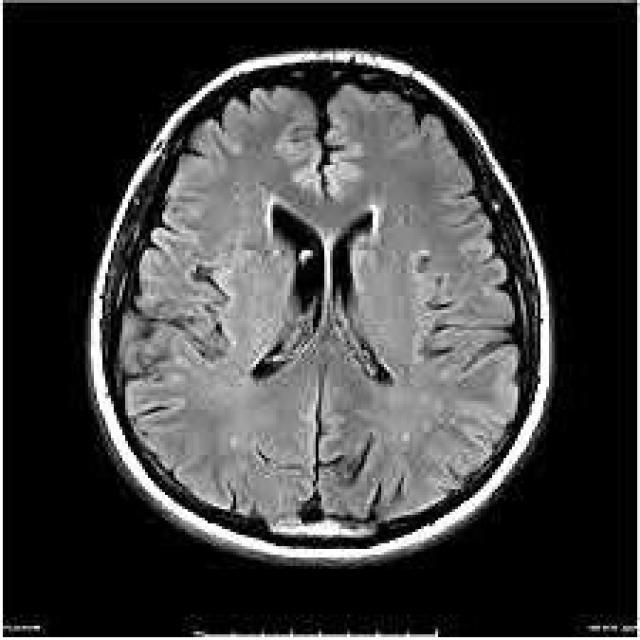notumor: (91, 51, 552, 563)
